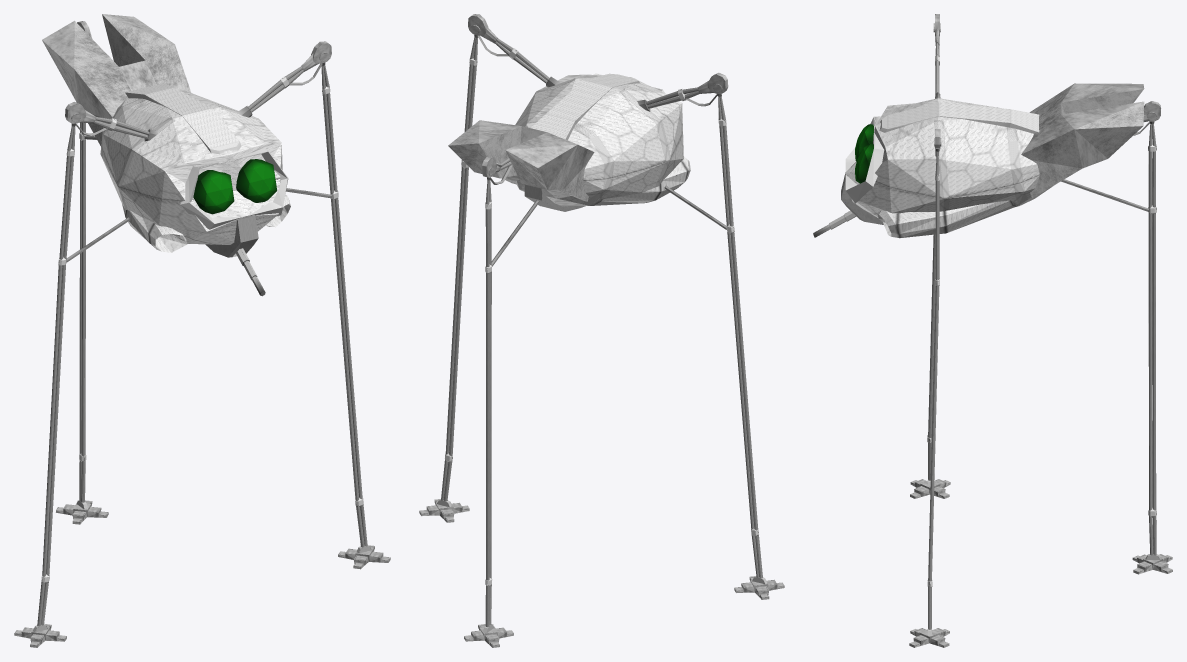
The model's file is tripod.obj.
The picture shows the model from 3 angles, left to right: view 1: azimuth 30°, elevation 25°; view 2: azimuth 150°, elevation 25°; view 3: azimuth 270°, elevation 25°; orthographic projection. The views are drawn at different scales.
Parts seen in each view (by area): view 1: head, leg, tail, eyes, hat, foot, jets, joints, base, joints3; view 2: head, leg, tail, hat, foot, jets, joints, joints3, base; view 3: head, tail, leg, hat, jets, foot, eyes, base, joints.
Part boxes in pixels (x1=…): head: x1=100, y1=90, x2=288, y2=244; leg: x1=33, y1=55, x2=371, y2=632; tail: x1=42, y1=14, x2=191, y2=146; eyes: x1=193, y1=159, x2=277, y2=214; hat: x1=125, y1=83, x2=241, y2=154; foot: x1=14, y1=500, x2=390, y2=647; jets: x1=122, y1=194, x2=290, y2=252; joints: x1=65, y1=21, x2=331, y2=123; base: x1=205, y1=216, x2=258, y2=257; joints3: x1=66, y1=63, x2=332, y2=262; head: x1=515, y1=73, x2=683, y2=206; leg: x1=437, y1=34, x2=767, y2=633; tail: x1=448, y1=120, x2=594, y2=201; hat: x1=530, y1=73, x2=639, y2=140; foot: x1=419, y1=499, x2=784, y2=647; jets: x1=590, y1=157, x2=690, y2=205; joints: x1=468, y1=14, x2=728, y2=177; joints3: x1=477, y1=35, x2=726, y2=266; base: x1=524, y1=184, x2=585, y2=211; head: x1=845, y1=98, x2=1039, y2=217; tail: x1=1021, y1=83, x2=1144, y2=197; leg: x1=927, y1=43, x2=1160, y2=635; hat: x1=879, y1=102, x2=1039, y2=133; jets: x1=877, y1=200, x2=1017, y2=238; foot: x1=909, y1=479, x2=1172, y2=647; eyes: x1=855, y1=124, x2=873, y2=183; base: x1=841, y1=174, x2=1052, y2=224; joints: x1=933, y1=14, x2=1160, y2=148.
Size of the model in its own units: 125 by 174 by 115.
13 materials, 13 textured.
